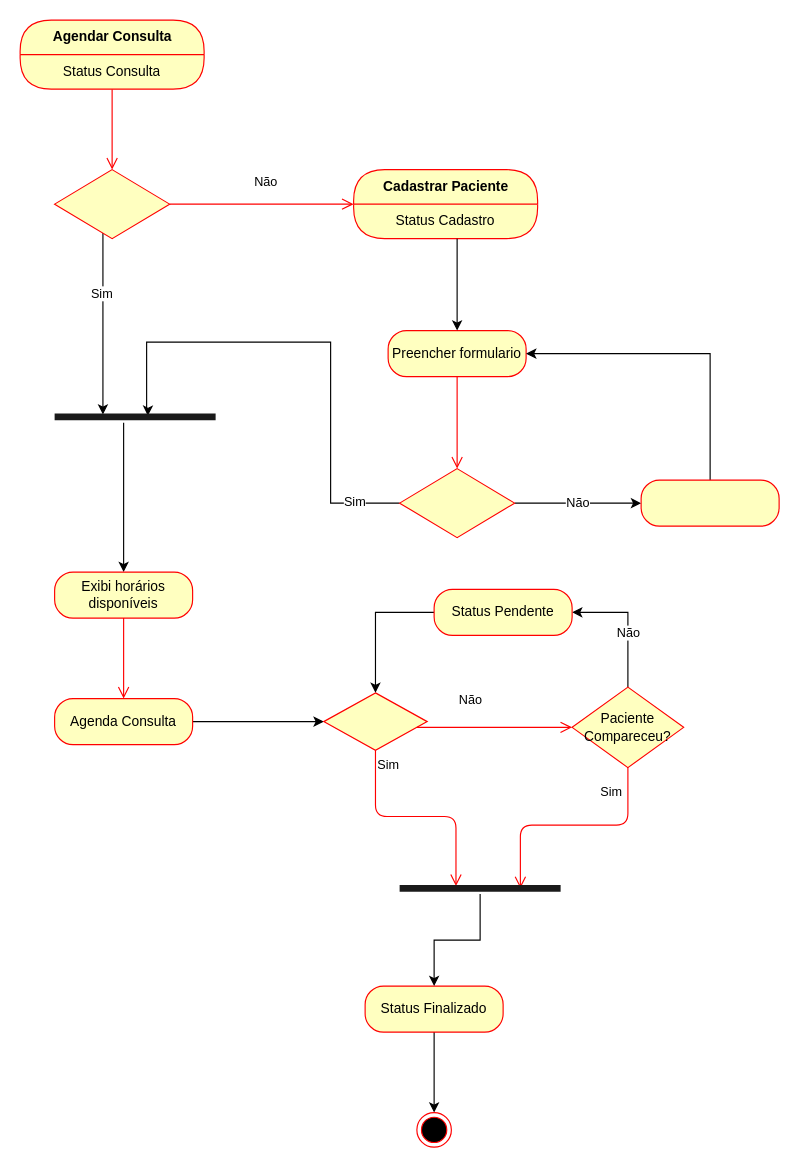
Some shapes in this 799 by 1167 pixel diagram are drawn without their labels. The centre of each missing label's shape, as x and y in pixels:
Exibi mensagem de erro na inclusão: (x=709, y=502)
Medico Consultou?: (x=375, y=721)
Paciente Cadastrado: (x=111, y=203)
Paciente Validado: (x=456, y=502)
